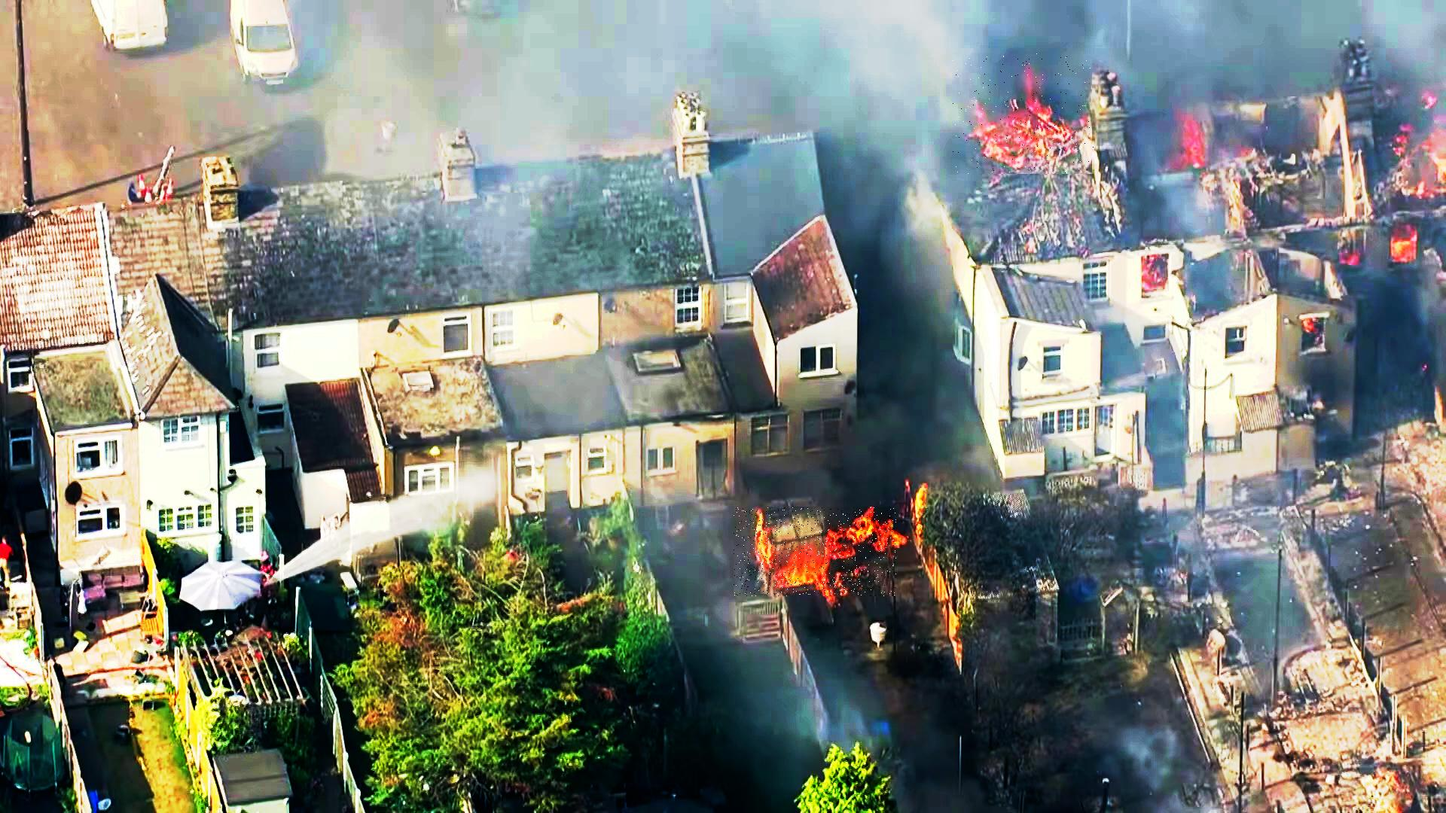fire: (953, 53, 1094, 174), (734, 507, 897, 596)
